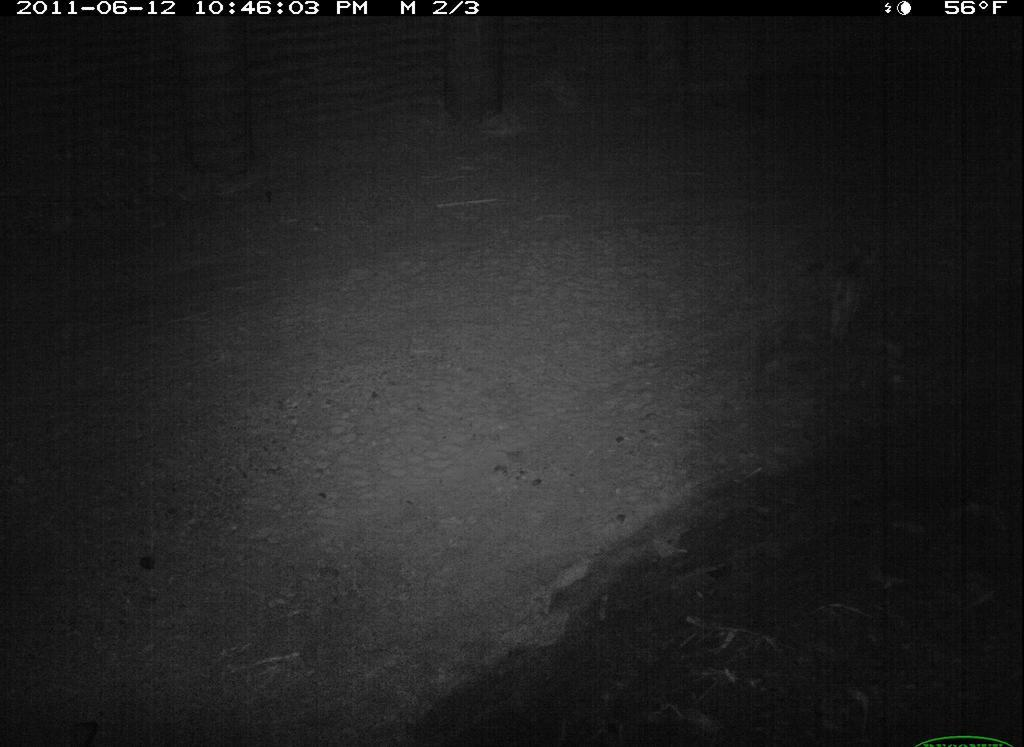bobcat: (802, 246, 893, 360)
